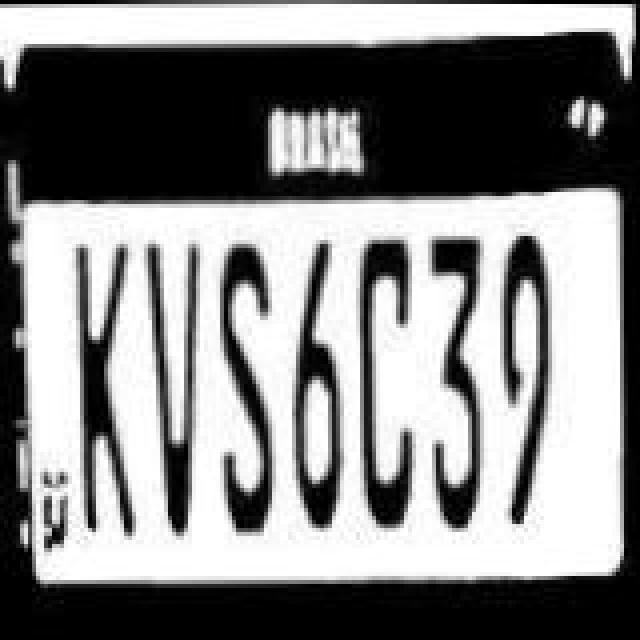3: (424, 222, 496, 538)
6: (282, 232, 358, 540)
9: (494, 224, 570, 536)
C: (354, 228, 422, 540)
K: (72, 242, 152, 550)
S: (210, 240, 286, 544)
V: (144, 234, 208, 550)
